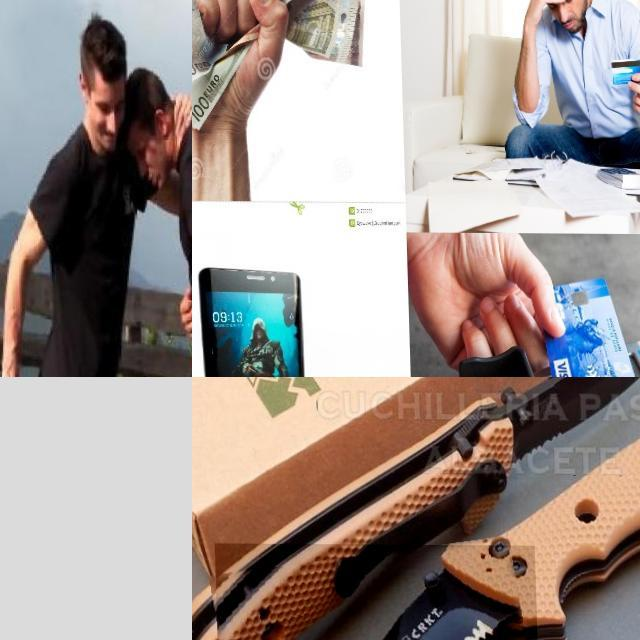-: (213, 543, 539, 640), (507, 377, 640, 461)
gun-knife-thesis - v11 Yolov5 augmented: (0, 377, 192, 640)
